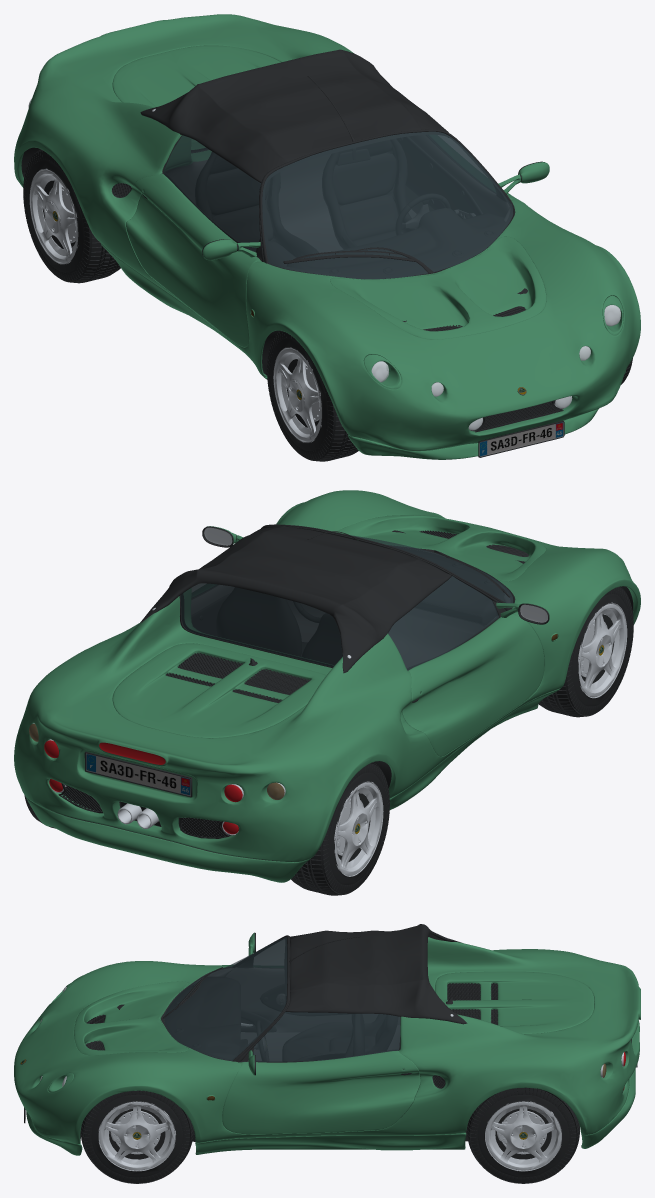
File: lotus-elise-low.glb
3 views of the same model, one above another, from view 1: azimuth 30°, elevation 25°; view 2: azimuth 150°, elevation 25°; view 3: azimuth 270°, elevation 25° (orthographic). The views are drawn at different scales.
Parts seen in each view (by area): view 1: body, wheel_rear_right, wheel_front_right; view 2: body, wheel_rear_right, wheel_front_right; view 3: body, wheel_rear_left, wheel_front_left.
Part boxes in pixels (x1,y1,x2,y2): body: (14,14,640,459); wheel_rear_right: (23,149,120,283); wheel_front_right: (267,330,358,461); body: (14,490,640,882); wheel_rear_right: (291,762,389,895); wheel_front_right: (538,586,633,717); body: (14,924,640,1155); wheel_rear_left: (467,1087,579,1183); wheel_front_left: (80,1090,193,1183).
Size of the model in its own units: 1.91 by 1.28 by 3.79.
Materials: 16 (3 with a texture image).
